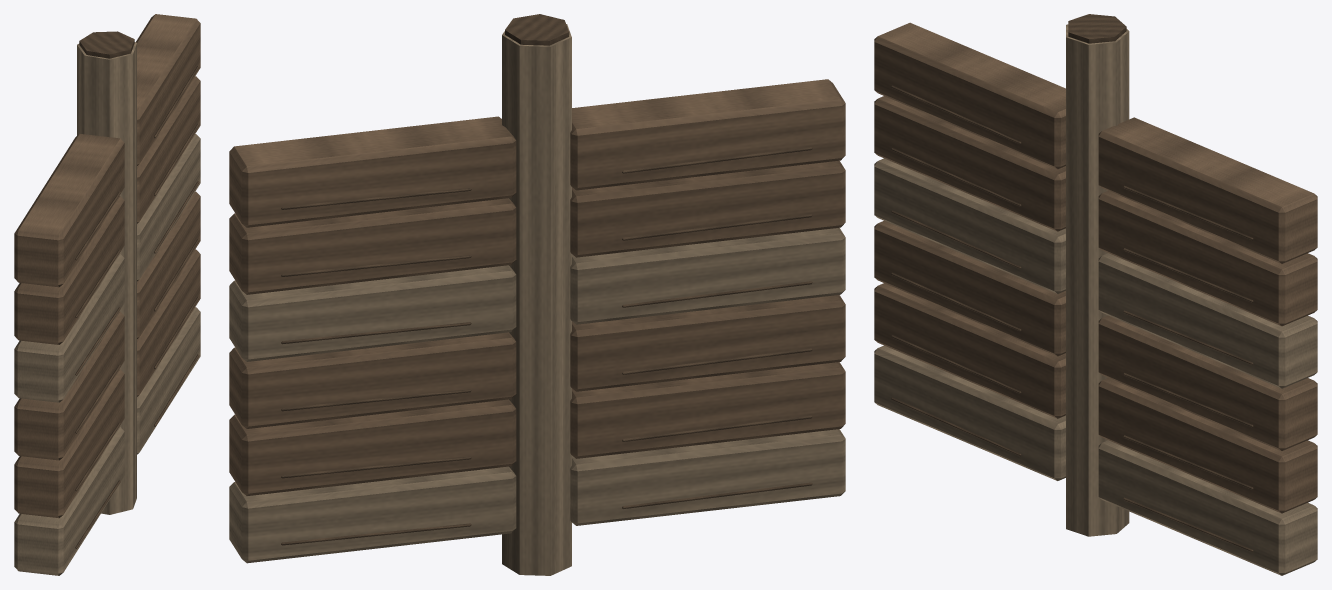
The model's file is wall_mask_136.glb.
The picture shows the model from 3 angles, left to right: view 1: azimuth 30°, elevation 25°; view 2: azimuth 150°, elevation 25°; view 3: azimuth 270°, elevation 25°; orthographic projection. The views are drawn at different scales.
Visible parts, largest first — view 1: Weathered timber, Timber worn edges, Dark endgrain; view 2: Weathered timber, Timber worn edges, Dark endgrain; view 3: Weathered timber, Timber worn edges, Dark endgrain.
Part boxes in pixels (<box>): Weathered timber: <box>14,14,200,518</box>; Timber worn edges: <box>14,42,200,575</box>; Dark endgrain: <box>75,31,199,548</box>; Weathered timber: <box>229,79,845,495</box>; Timber worn edges: <box>229,24,845,575</box>; Dark endgrain: <box>281,14,812,545</box>; Weathered timber: <box>874,22,1317,513</box>; Timber worn edges: <box>874,24,1317,575</box>; Dark endgrain: <box>891,14,1253,552</box>.
Size of the model in its own units: 1.13 by 1.39 by 1.13.
Materials: 3 (3 with a texture image).
